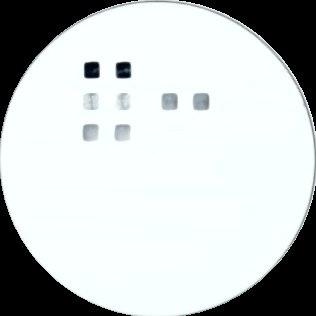检查点: (80, 121, 102, 143), (82, 60, 104, 81), (190, 91, 211, 113), (113, 60, 134, 80), (80, 92, 102, 111), (160, 92, 180, 112), (113, 92, 134, 111), (112, 123, 133, 142)
